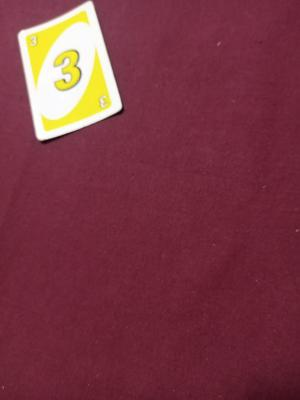num_3: (45, 35, 91, 99)
